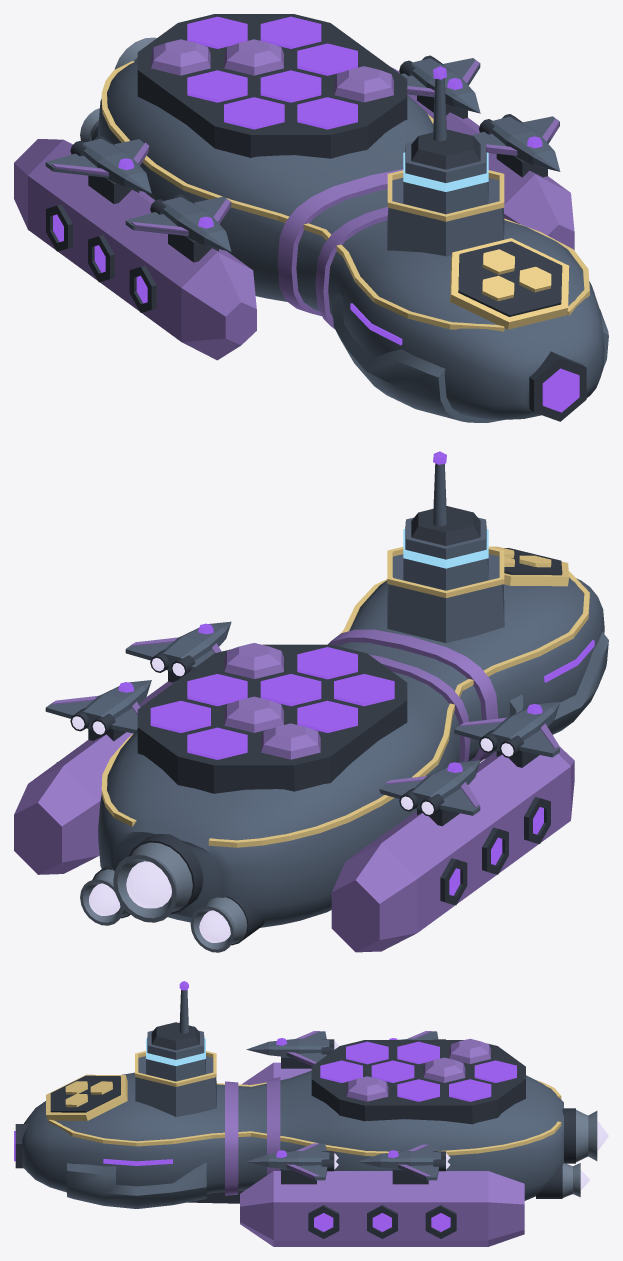
The model's file is hive.glb.
The picture shows the model from 3 angles, top to bottom: view 1: azimuth 30°, elevation 25°; view 2: azimuth 150°, elevation 25°; view 3: azimuth 270°, elevation 25°; orthographic projection. The views are drawn at different scales.
Visible parts, largest first — view 1: hive; view 2: hive; view 3: hive.
Part boxes in pixels (left/top/right/bottom): hive: left=14, top=14, right=608, bottom=422; hive: left=14, top=451, right=608, bottom=952; hive: left=14, top=981, right=608, bottom=1246.
Bounding box in the file's own units: 6.19 × 4.46 × 10.66.
